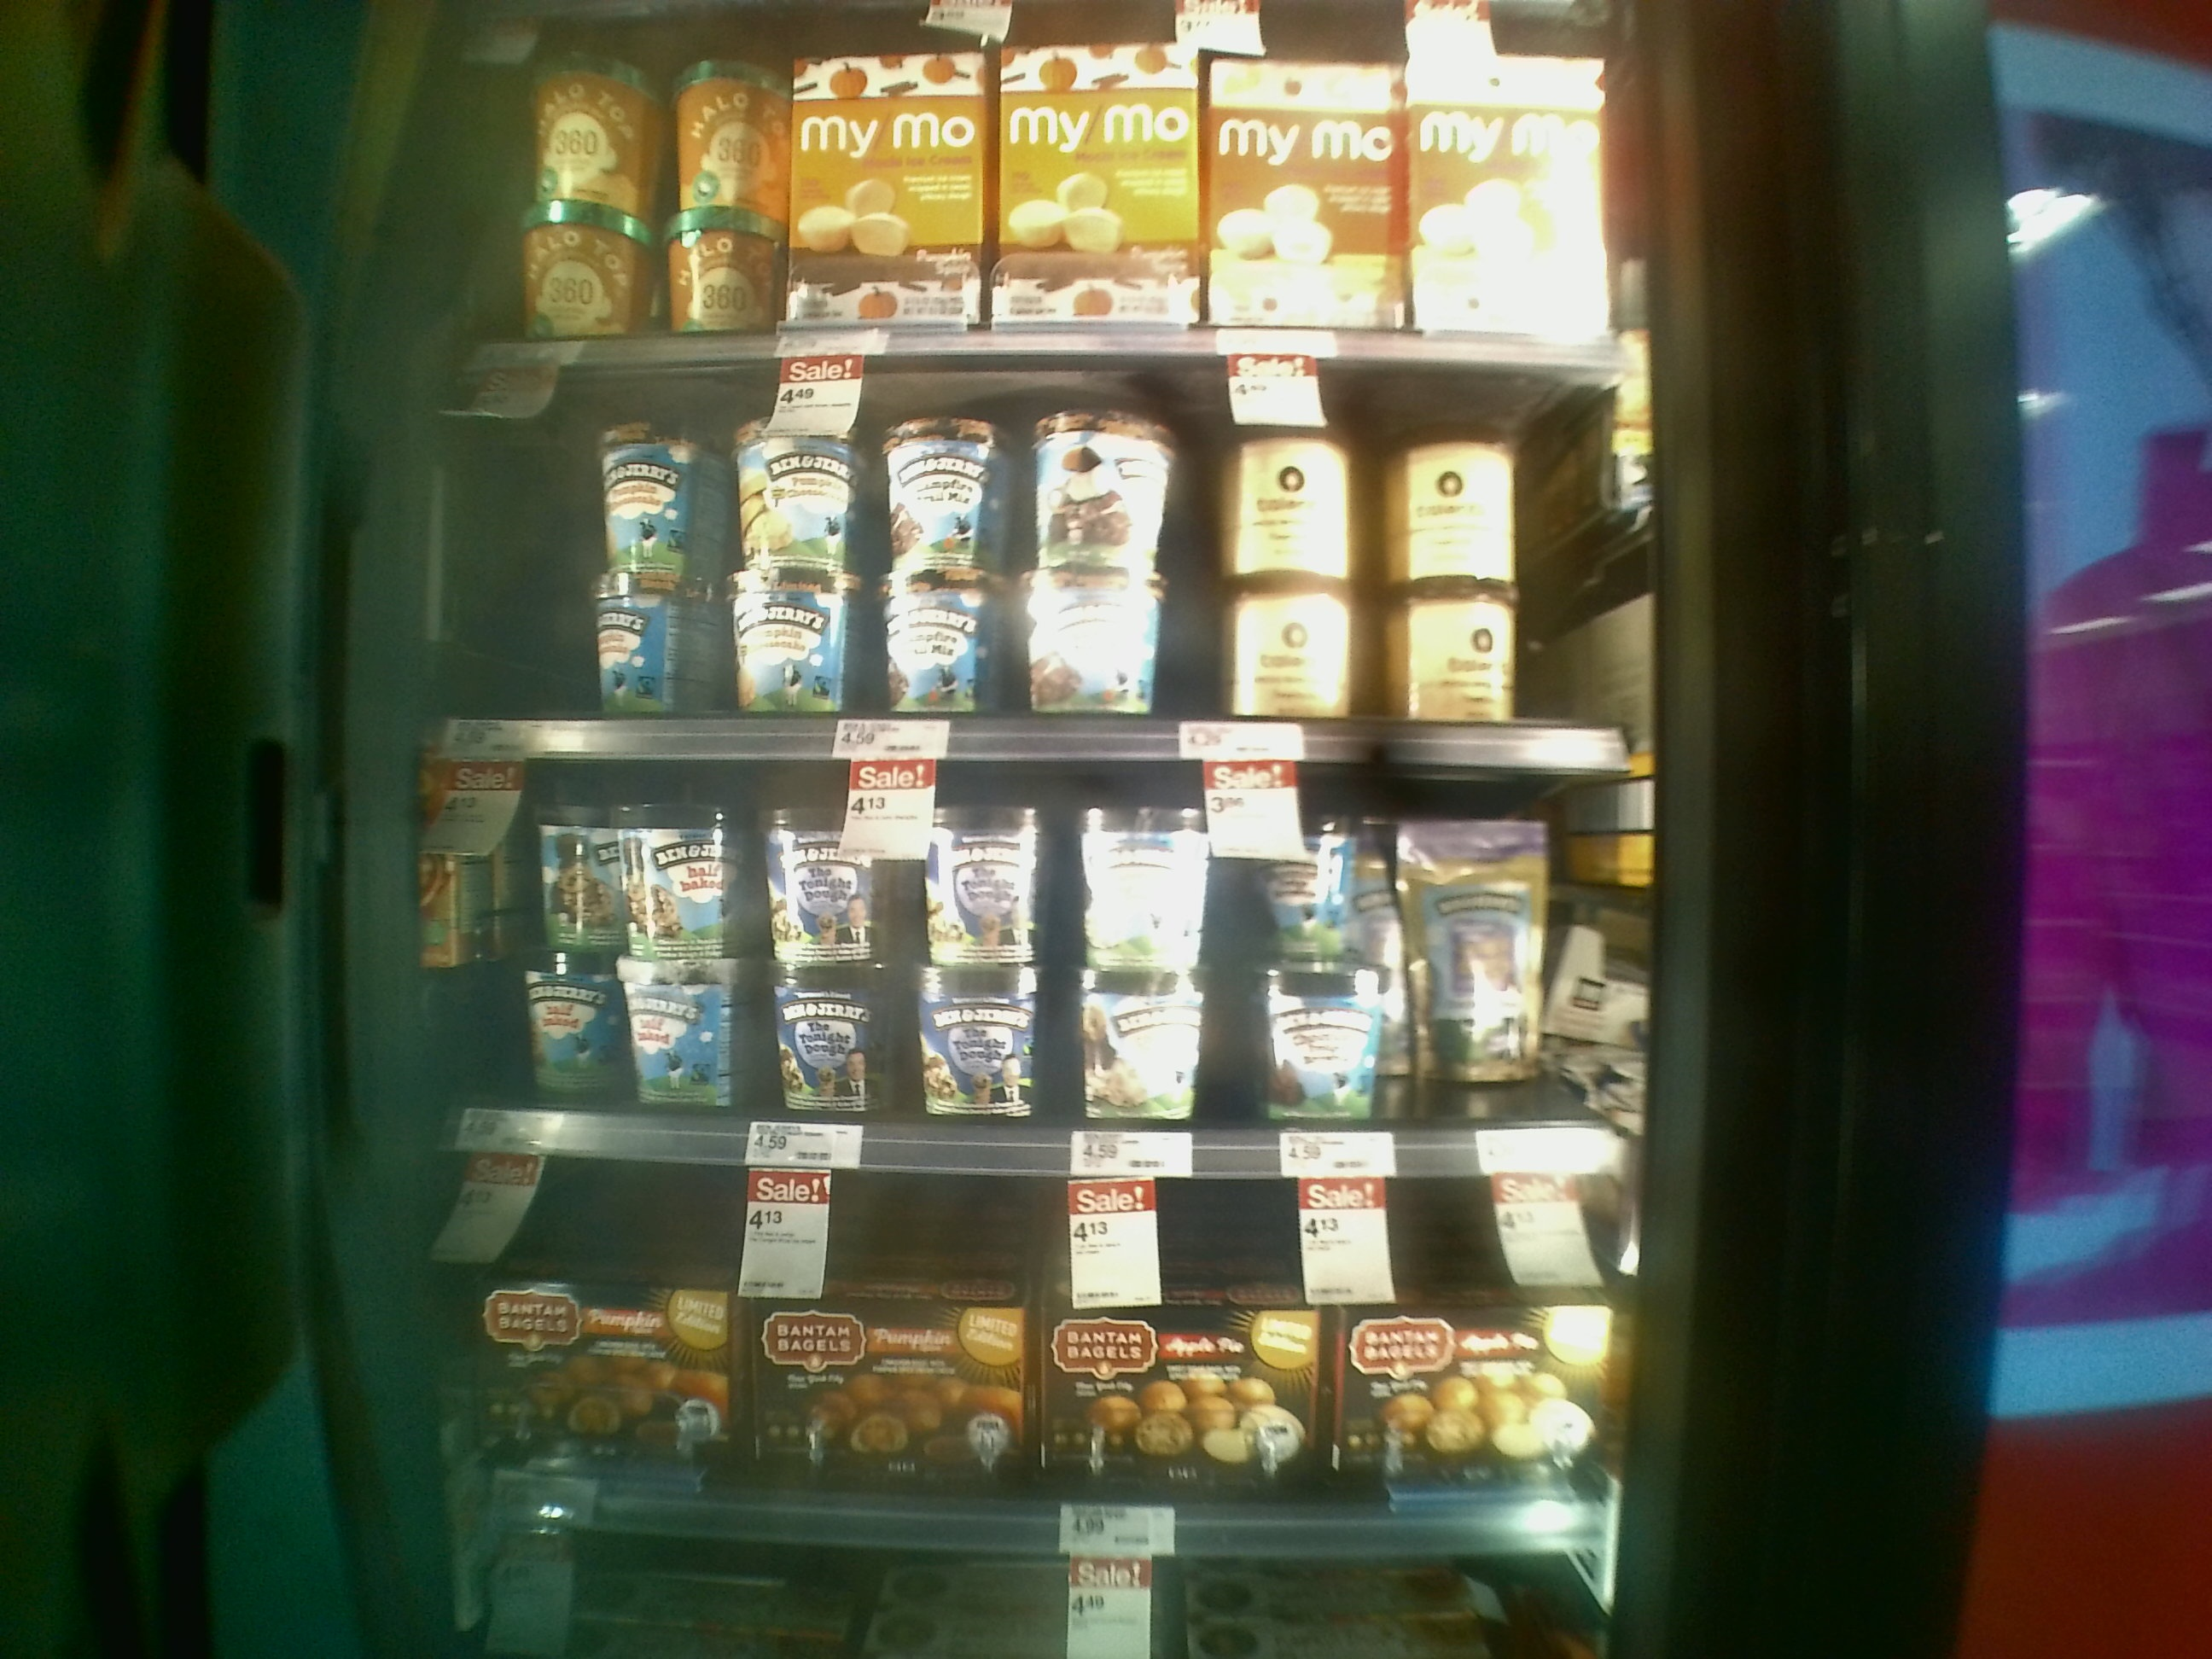shelf: (392, 758, 1651, 1180), (369, 1148, 1635, 1554), (409, 368, 1662, 774)
